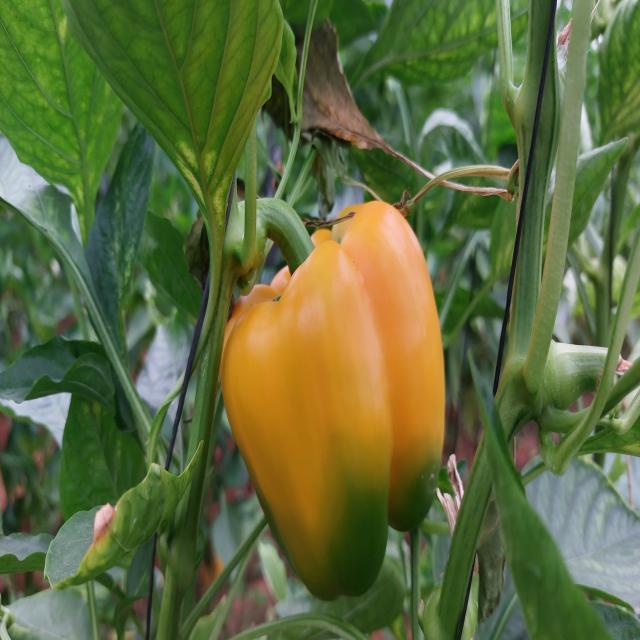GreenishYellow--Can-be-Harvested: (210, 209, 457, 622)
